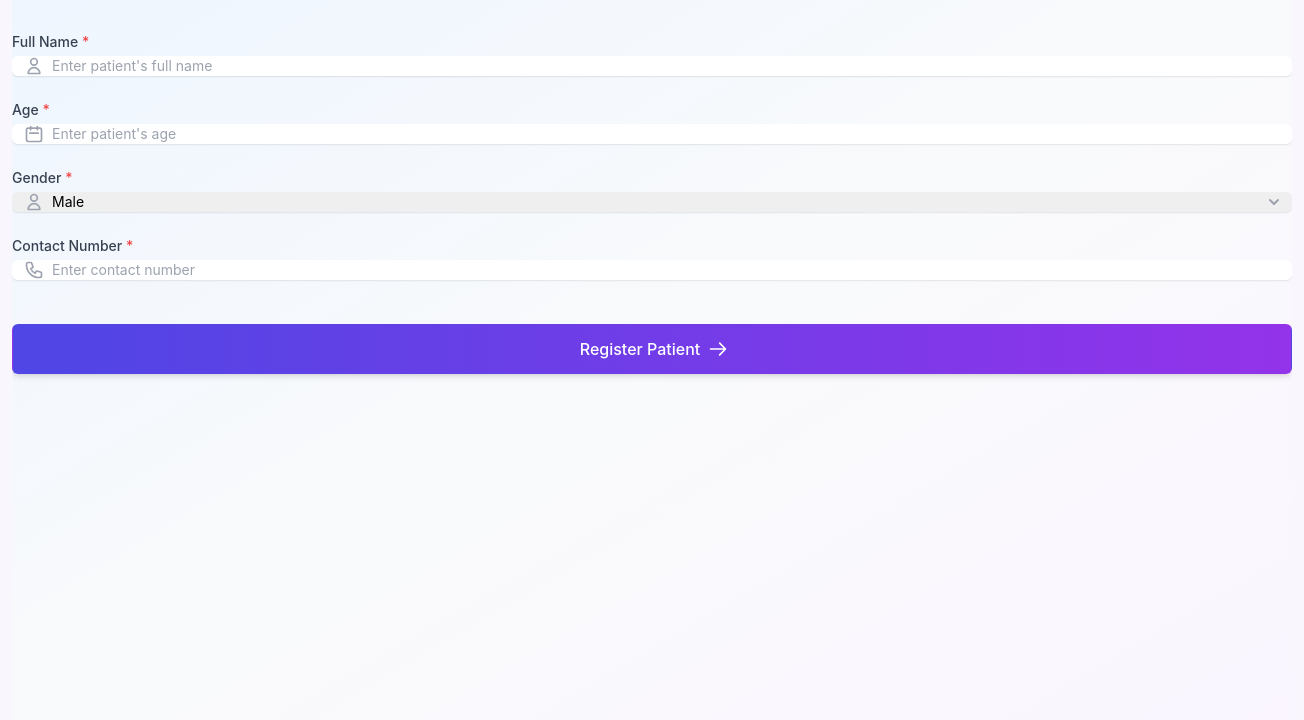
it: PatientRegistrationForm › submits the form with valid data
This screenshot has width=1304, height=720.
// Fill out the form
Type "John Doe" into the field labelled "Full Name *" at (652,66), box [12,56,1292,76]
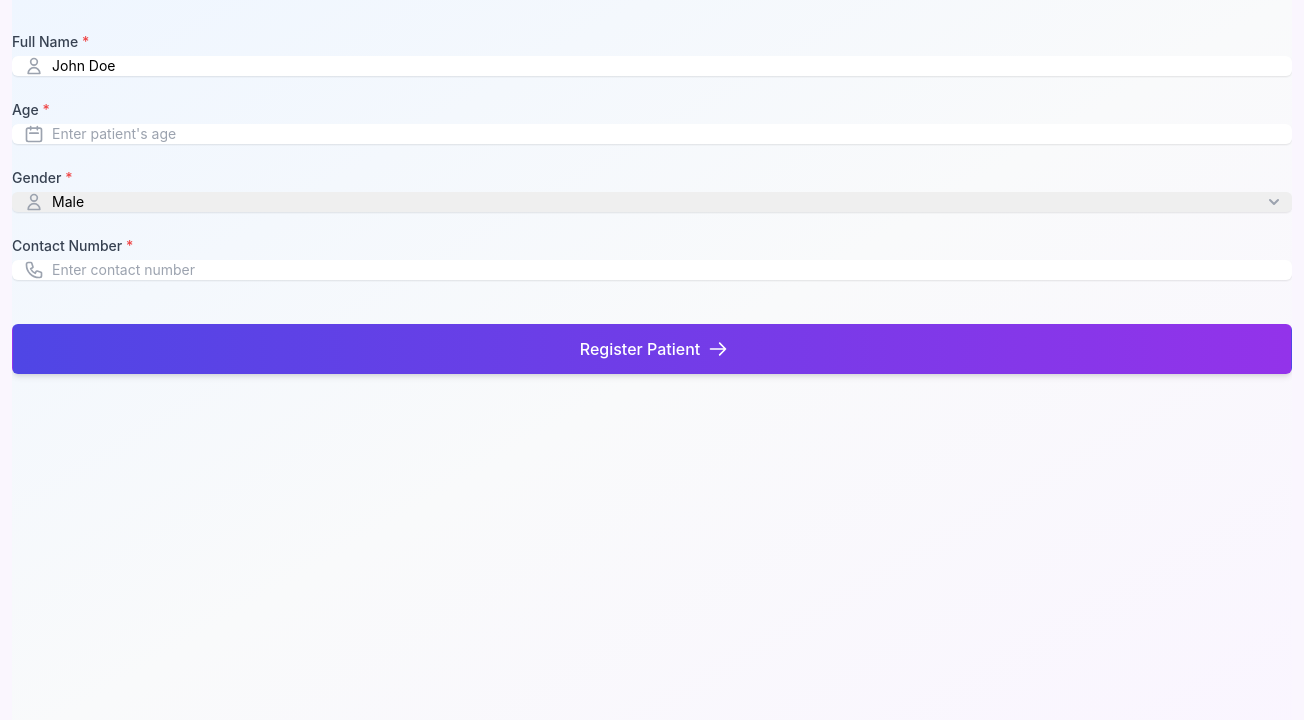
Type "30" into the number field labelled "Age *" at (652,134), box [12,124,1292,144]
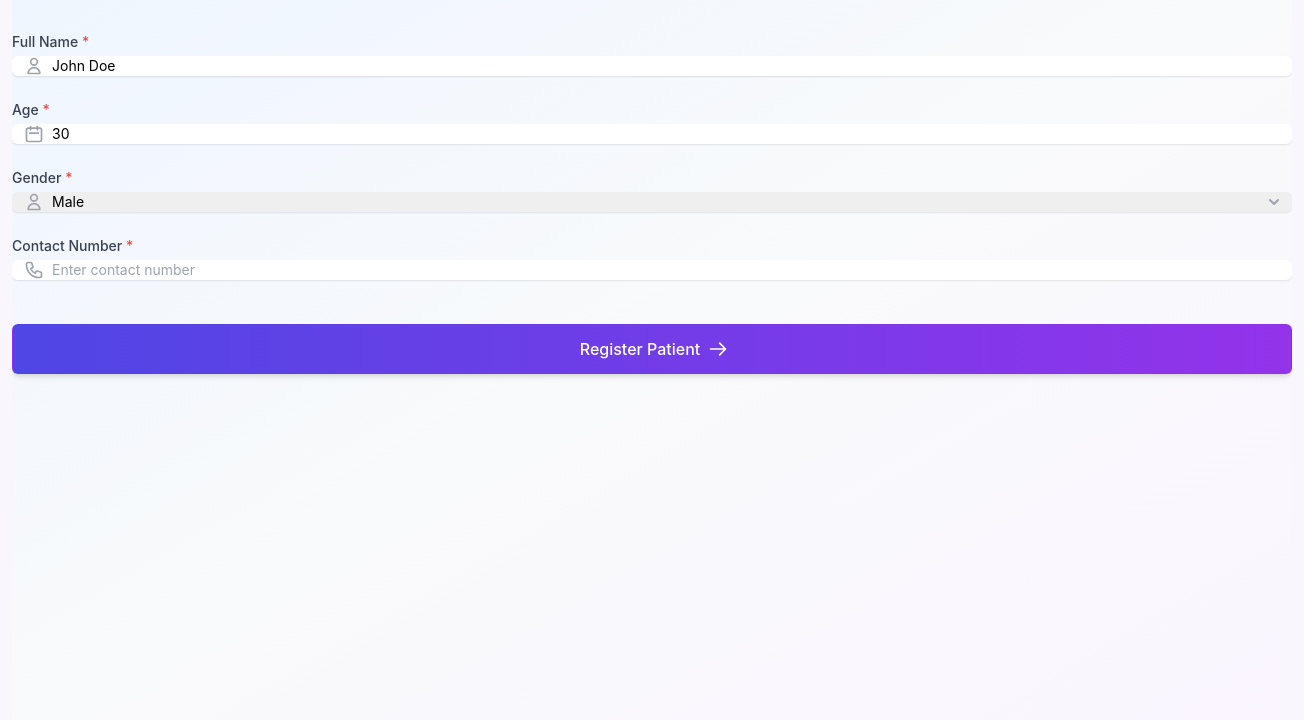
Select "Male" in the dropdown labelled "Gender *" at (652,202), box [12,192,1292,212]
Type "1234567890" into the field labelled "Contact Number *" at (652,270), box [12,260,1292,280]
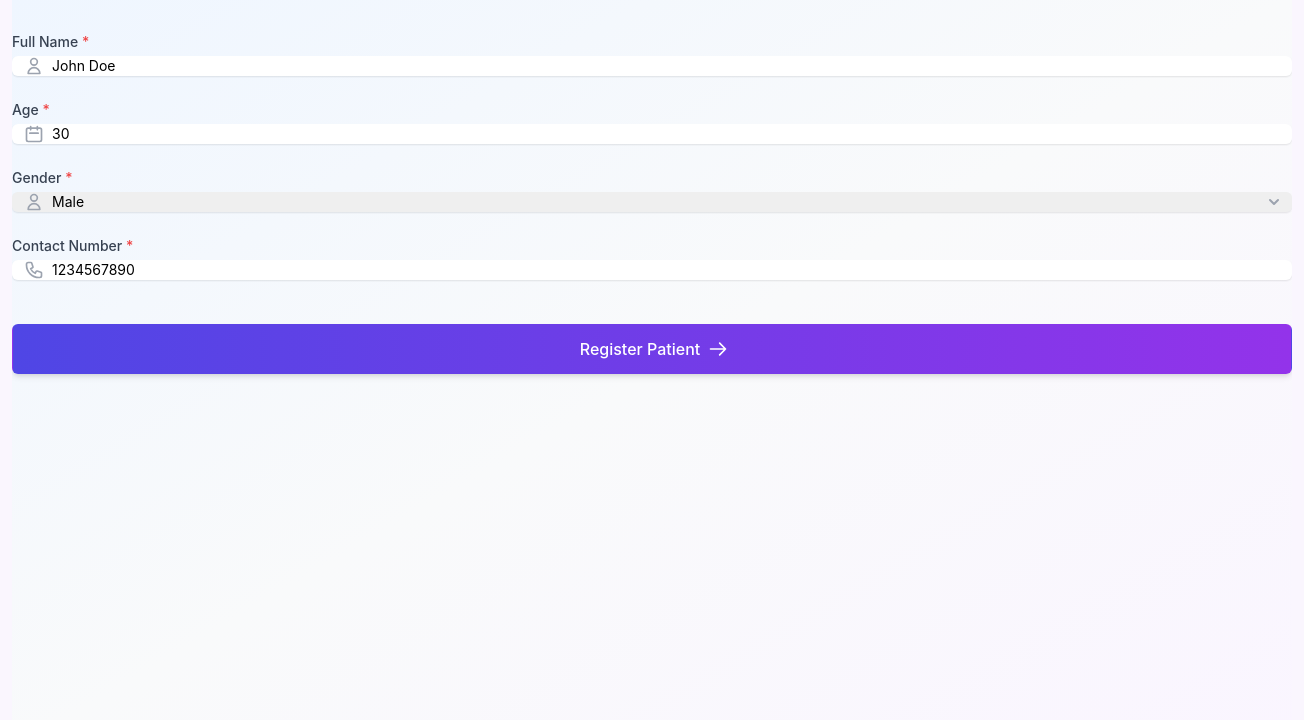
// Submit the form
Click the button "Register Patient" at (652,349), box [12,324,1292,374]
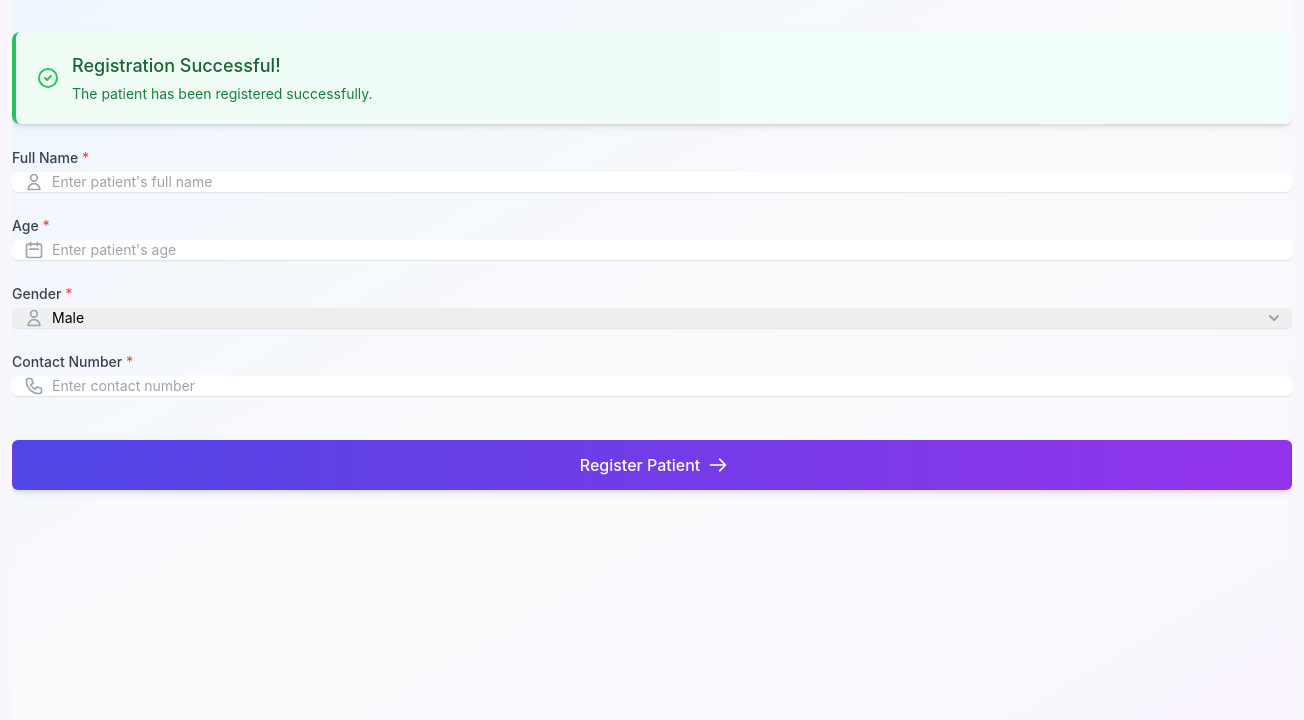
Result: the heading "Registration Successful!" is shown at [72,55,281,76]
